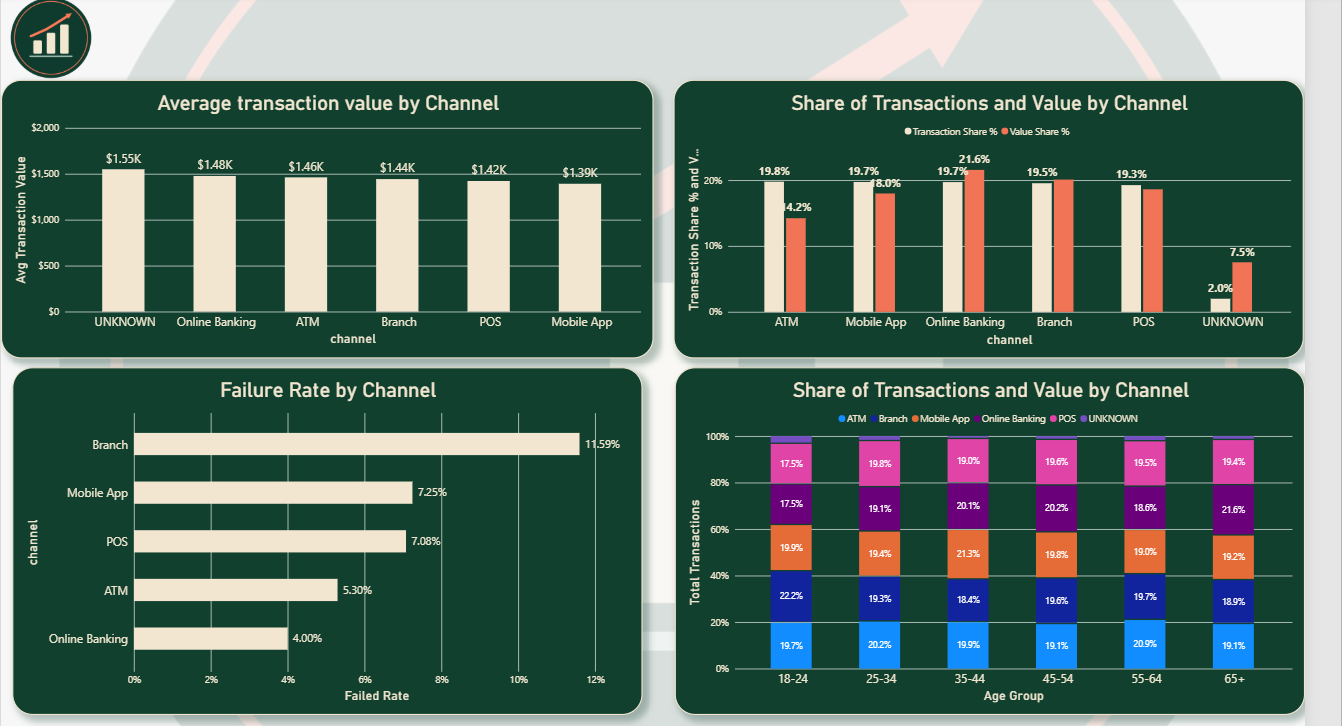

What the dashboard file says about the page in this screenshot:
{"tool":"powerbi","page":{"name":"Channels","canvas":[1920,1080],"ordinal":6},"visuals":[{"type":"image","box":[0,0,147.2,123.3],"z":0},{"type":"hundredPercentStackedColumnChart","title":"Share of Transactions and Value by Channel ","fields":{"Category":["dim_customer.Age Group"],"Series":["fact_transactions.channel"],"Y":["\"Measures\".Total Transactions"]},"box":[992.5,546.5,927.9,512.4],"z":1},{"type":"clusteredBarChart","title":"Failure Rate by Channel","fields":{"Category":["fact_transactions.channel"],"Y":["\"Measures\".Failed Rate"]},"box":[16.6,546.6,927.6,511.7],"z":2},{"type":"clusteredColumnChart","title":"Average transaction value by Channel","fields":{"Category":["fact_transactions.channel"],"Y":["\"Measures\".Avg Transaction Value"]},"box":[0,123.3,960.7,410.4],"z":3},{"type":"clusteredColumnChart","title":"Share of Transactions and Value by Channel ","fields":{"Category":["fact_transactions.channel"],"Y":["\"Measures\".Transaction Share %","\"Measures\".Value Share %"]},"box":[990.6,123.3,927.6,410.4],"z":4}]}

Visuals, with their boxes on the page's 1920x1080 design canvas (x1, y1, x2, y2). These are canvas units, not pixel positions in the 1342x726 screenshot, which may show the page scaled, cropped or inside an application window:
image: detection(0, 0, 147, 123)
"Share of Transactions and Value by Channel " hundredPercentStackedColumnChart: detection(992, 546, 1920, 1059)
"Failure Rate by Channel" clusteredBarChart: detection(17, 547, 944, 1058)
"Average transaction value by Channel" clusteredColumnChart: detection(0, 123, 961, 534)
"Share of Transactions and Value by Channel " clusteredColumnChart: detection(991, 123, 1918, 534)
